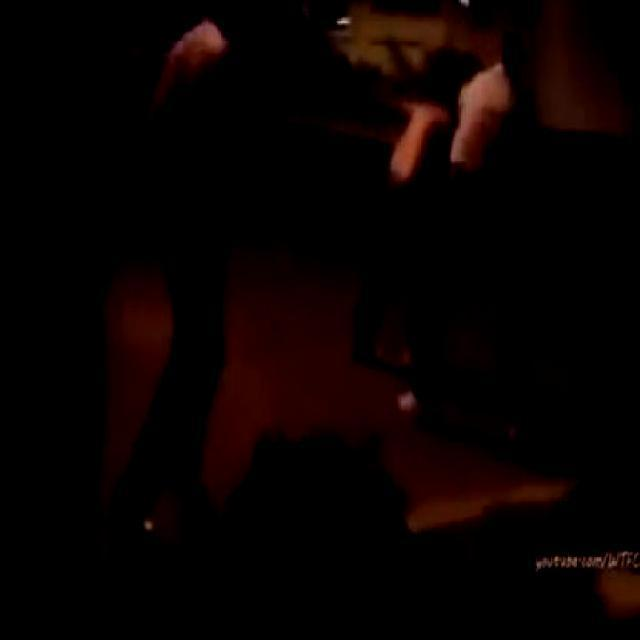fight: (381, 32, 528, 268)
non-fight: (131, 6, 244, 346)
